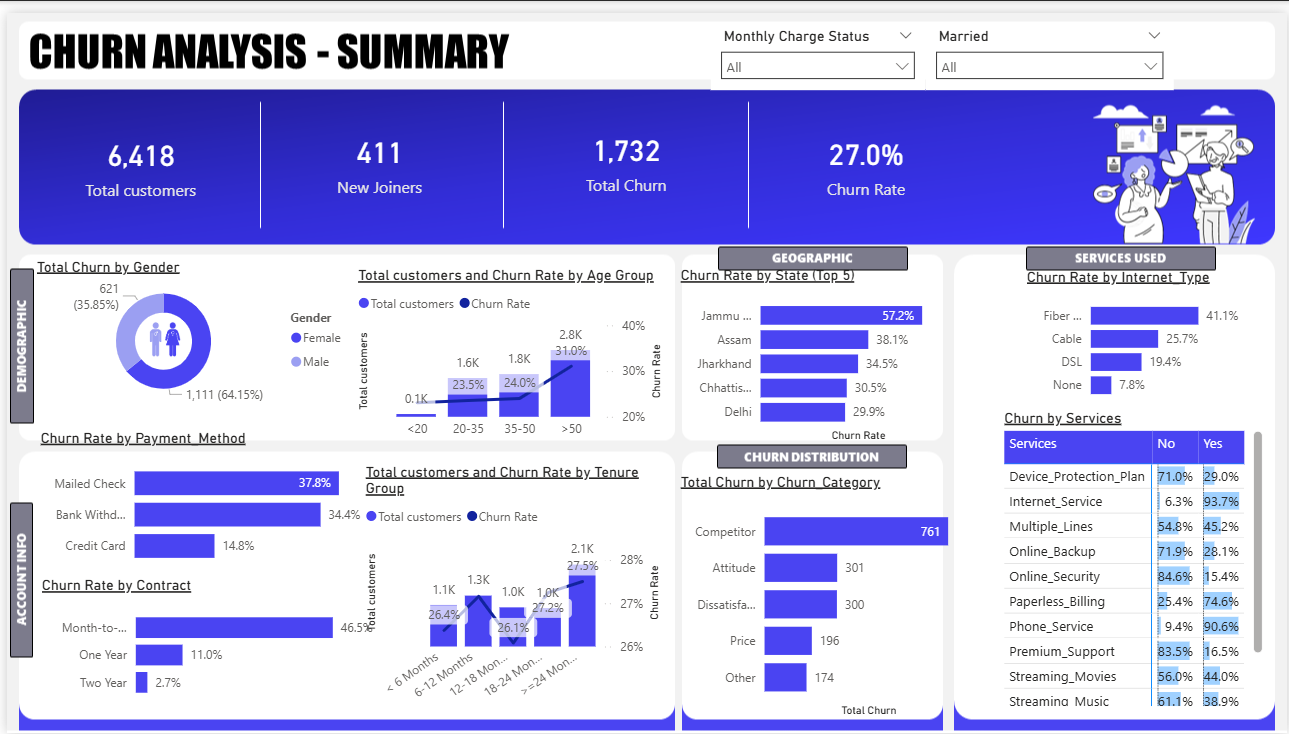

This screenshot's page, from the dashboard's own definition file:
{"tool":"powerbi","page":{"name":"Summary","canvas":[1280,720],"ordinal":0},"visuals":[{"type":"image","box":[125.6,303.5,66.3,44.2],"z":0},{"type":"card","fields":{"Values":["tbl_Measures.Total customers"]},"box":[25.6,103.7,218.1,96.9],"z":1000},{"type":"card","fields":{"Values":["tbl_Measures.New Joiners"]},"box":[254.4,96.9,235.6,103.7],"z":2000},{"type":"card","fields":{"Values":["tbl_Measures.Total Churn"]},"box":[503.5,94.2,231.6,106.4],"z":3000},{"type":"card","fields":{"Values":["tbl_Measures.Churn Rate"]},"box":[745.8,92.9,226.2,117.1],"z":4000},{"type":"donutChart","fields":{"Category":["prod_Churn.Gender"],"Y":["tbl_Measures.Total Churn"]},"box":[25.6,245.3,324.4,150],"z":5000},{"type":"lineStackedColumnComboChart","fields":{"Category":["mapping_AgeGrp.Age Group"],"Y":["tbl_Measures.Total customers"],"Y2":["tbl_Measures.Churn Rate"]},"box":[346.5,253.5,315.1,180.2],"z":6000},{"type":"clusteredBarChart","fields":{"Category":["prod_Churn.Payment_Method"],"Y":["tbl_Measures.Churn Rate"]},"box":[29.1,416.3,344.2,147.7],"z":7000},{"type":"clusteredBarChart","fields":{"Category":["prod_Churn.Contract"],"Y":["tbl_Measures.Churn Rate"]},"box":[29.6,564.1,343.3,133.3],"z":8000},{"type":"lineStackedColumnComboChart","fields":{"Category":["mapping_TenureGrp.Tenure Group"],"Y":["tbl_Measures.Total customers"],"Y2":["tbl_Measures.Churn Rate"]},"box":[354.1,449.6,305.6,247.7],"z":9000},{"type":"clusteredBarChart","title":"Churn Rate by State (Top 5)","fields":{"Category":["prod_Churn.State"],"Y":["tbl_Measures.Churn Rate"]},"box":[668.6,253.5,286,180.2],"z":10000},{"type":"clusteredBarChart","fields":{"Category":["prod_Churn.Churn_Category"],"Y":["tbl_Measures.Total Churn"]},"box":[669.1,460.4,302.9,249.1],"z":11000},{"type":"clusteredBarChart","fields":{"Category":["prod_Churn.Internet_Type"],"Y":["tbl_Measures.Churn Rate"]},"box":[1015.1,254.4,223.5,141.4],"z":12000},{"type":"pivotTable","title":"Churn by Services","fields":{"Rows":["prod_Services.Services"],"Columns":["prod_Services.Status"],"Values":["Sum(prod_Services.Churn_Status)"]},"box":[992.2,395.8,267.9,301.6],"z":13000},{"type":"slicer","fields":{"Values":["prod_Churn.Monthly Charge Status"]},"box":[704.1,9.4,214.1,67.3],"z":14000},{"type":"slicer","fields":{"Values":["prod_Churn.Married"]},"box":[918.1,9.4,247.7,67.3],"z":15000}]}

Visuals, with their boxes in screenshot pixels (x1, y1, x2, y2), scaled from the page's 1280x720 canvas onto the 1289x734 screenshot:
image: BBox(126, 309, 193, 354)
card - tbl_Measures.Total customers: BBox(26, 106, 245, 205)
card - tbl_Measures.New Joiners: BBox(256, 99, 493, 205)
card - tbl_Measures.Total Churn: BBox(507, 96, 740, 205)
card - tbl_Measures.Churn Rate: BBox(751, 95, 979, 214)
donutChart - prod_Churn.Gender x tbl_Measures.Total Churn: BBox(26, 250, 352, 403)
lineStackedColumnComboChart - mapping_AgeGrp.Age Group x tbl_Measures.Total customers: BBox(349, 258, 666, 442)
clusteredBarChart - prod_Churn.Payment_Method x tbl_Measures.Churn Rate: BBox(29, 424, 376, 575)
clusteredBarChart - prod_Churn.Contract x tbl_Measures.Churn Rate: BBox(30, 575, 376, 711)
lineStackedColumnComboChart - mapping_TenureGrp.Tenure Group x tbl_Measures.Total customers: BBox(357, 458, 664, 711)
"Churn Rate by State (Top 5)" clusteredBarChart: BBox(673, 258, 961, 442)
clusteredBarChart - prod_Churn.Churn_Category x tbl_Measures.Total Churn: BBox(674, 469, 979, 723)
clusteredBarChart - prod_Churn.Internet_Type x tbl_Measures.Churn Rate: BBox(1022, 259, 1247, 403)
"Churn by Services" pivotTable: BBox(999, 403, 1269, 711)
slicer - prod_Churn.Monthly Charge Status: BBox(709, 10, 925, 78)
slicer - prod_Churn.Married: BBox(925, 10, 1174, 78)
